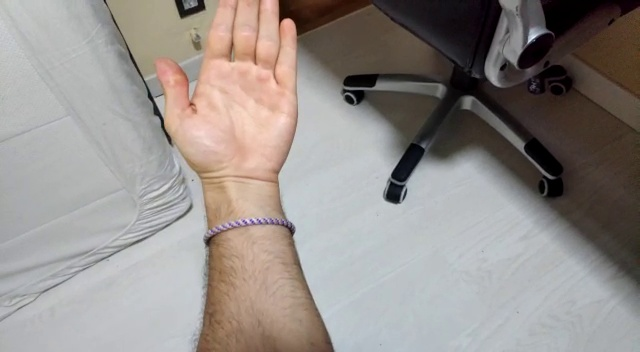Palm: (153, 1, 300, 205)
